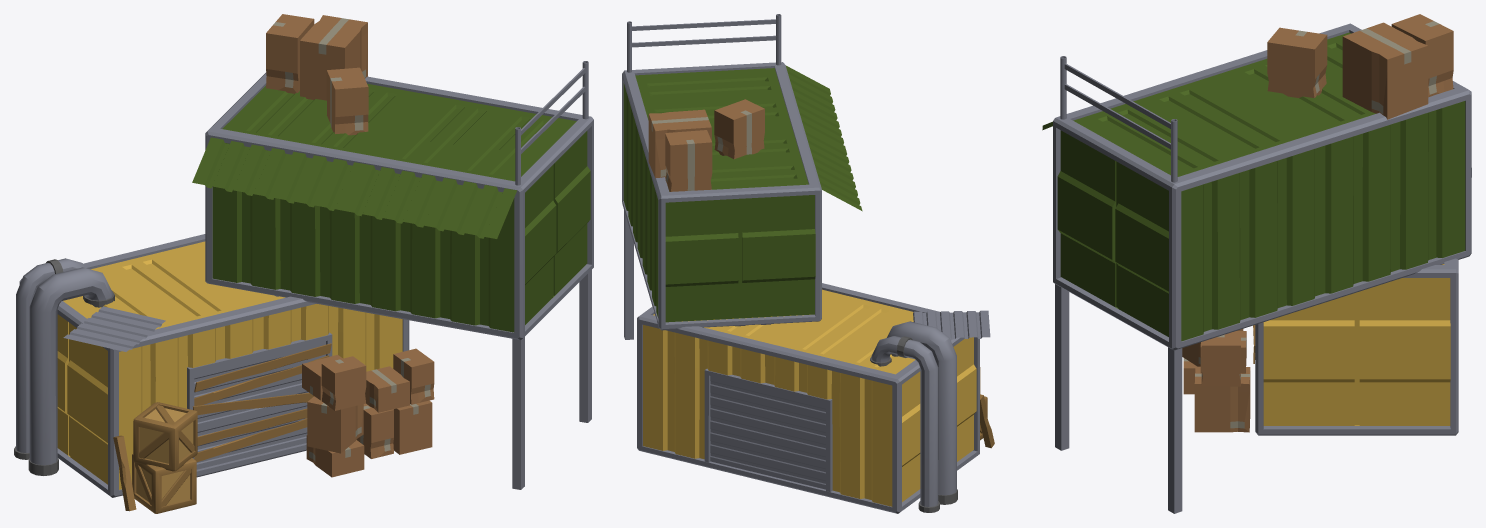
Rendered from structure_2_lev2.glb.
3 renders of one model, left to right at view 1: azimuth 30°, elevation 25°; view 2: azimuth 150°, elevation 25°; view 3: azimuth 270°, elevation 25°, orthographic. The views are drawn at different scales.
Visible parts, largest first — view 1: structure_2_lev2; view 2: structure_2_lev2; view 3: structure_2_lev2.
Part boxes in pixels (bbox=[...]): structure_2_lev2: bbox=[14, 14, 593, 513]; structure_2_lev2: bbox=[622, 14, 994, 513]; structure_2_lev2: bbox=[1042, 14, 1471, 513].
Bounding box in the file's own units: 18.75 × 13.8 × 14.13.
